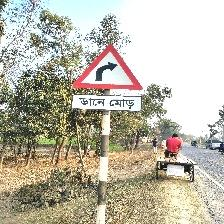Right-turn: (71, 44, 145, 112)
